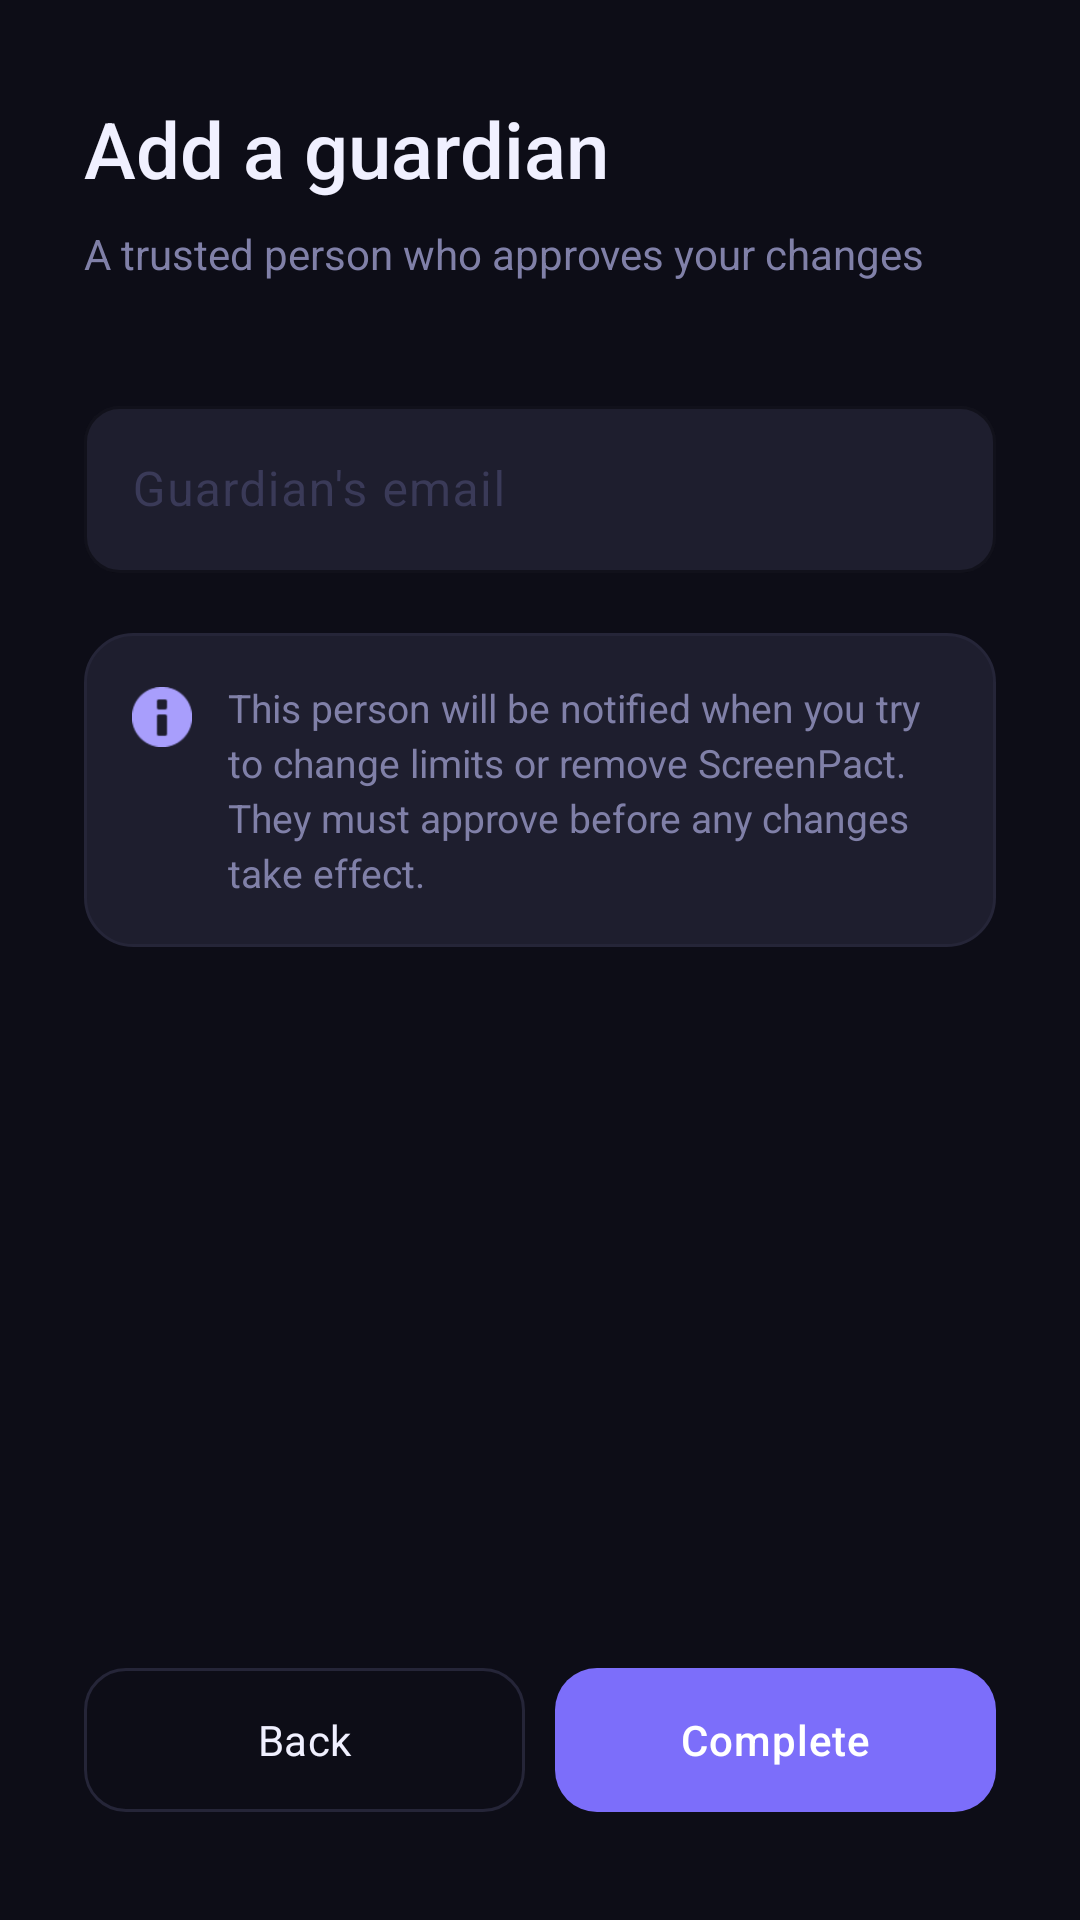

Named icons in this screenshot (1080*1920) and their centers, [x,y]:
info: [162,717]
